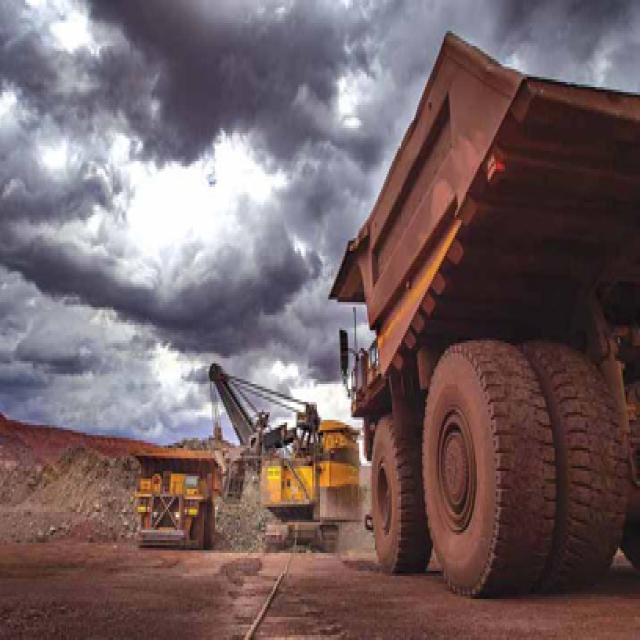dump_truck: (325, 21, 638, 596), (126, 428, 218, 563)
excavator: (206, 356, 367, 563)
